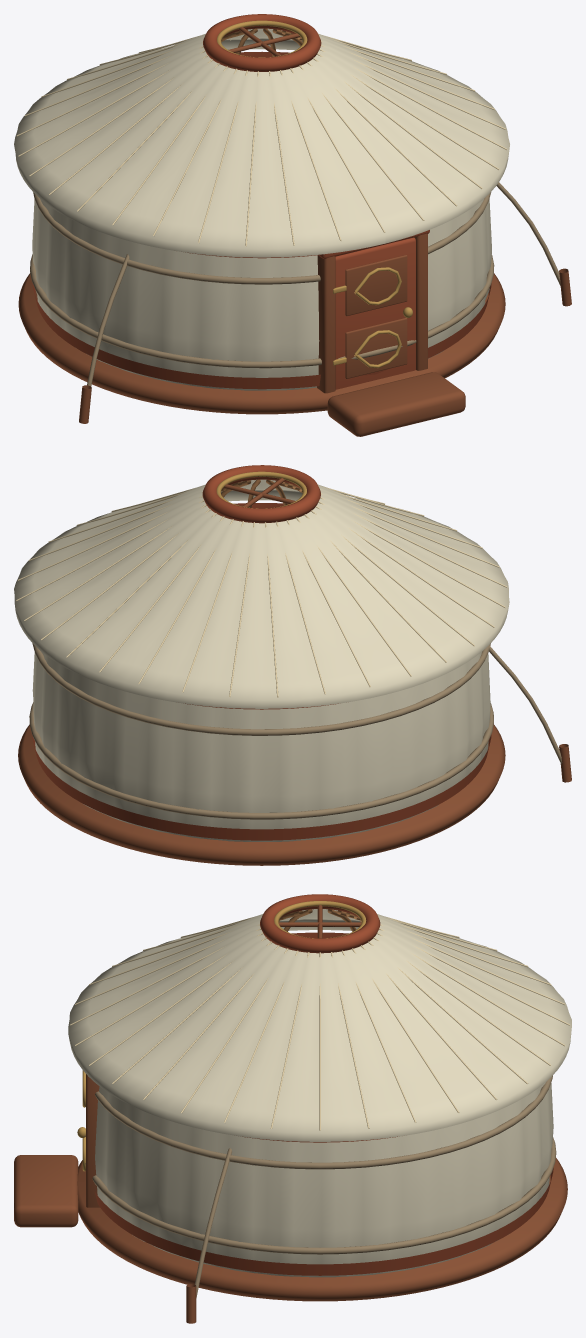
Rendered from ger.glb.
3 renders of one model, top to bottom at view 1: azimuth 30°, elevation 25°; view 2: azimuth 150°, elevation 25°; view 3: azimuth 270°, elevation 25°, orthographic.
Parts seen in each view (by area): view 1: ger_Ger_felt, ger_Ger_wood, ger_Ger_trim, ger_Flax_thread, ger_Ger_rope, ger_Brass; view 2: ger_Ger_felt, ger_Ger_wood, ger_Ger_trim, ger_Ger_rope, ger_Flax_thread, ger_Brass; view 3: ger_Ger_felt, ger_Ger_wood, ger_Ger_trim, ger_Flax_thread, ger_Ger_rope, ger_Brass.
Boxes of the visible parts, left/top/right/bottom form: ger_Ger_felt: left=14, top=28, right=509, bottom=390; ger_Ger_wood: left=18, top=27, right=571, bottom=436; ger_Ger_trim: left=32, top=14, right=491, bottom=389; ger_Flax_thread: left=16, top=29, right=507, bottom=246; ger_Ger_rope: left=30, top=182, right=560, bottom=386; ger_Brass: left=217, top=20, right=412, bottom=367; ger_Ger_felt: left=14, top=479, right=509, bottom=841; ger_Ger_wood: left=18, top=478, right=571, bottom=865; ger_Ger_trim: left=32, top=465, right=491, bottom=840; ger_Ger_rope: left=29, top=643, right=562, bottom=819; ger_Flax_thread: left=16, top=480, right=506, bottom=697; ger_Brass: left=216, top=471, right=306, bottom=508; ger_Ger_felt: left=68, top=909, right=571, bottom=1277; ger_Ger_wood: left=14, top=905, right=567, bottom=1323; ger_Ger_trim: left=95, top=894, right=553, bottom=1275; ger_Flax_thread: left=70, top=917, right=569, bottom=1130; ger_Ger_rope: left=85, top=1075, right=556, bottom=1297; ger_Brass: left=77, top=901, right=366, bottom=1171.
Size of the model in its own units: 2.87 by 1.57 by 2.77.
